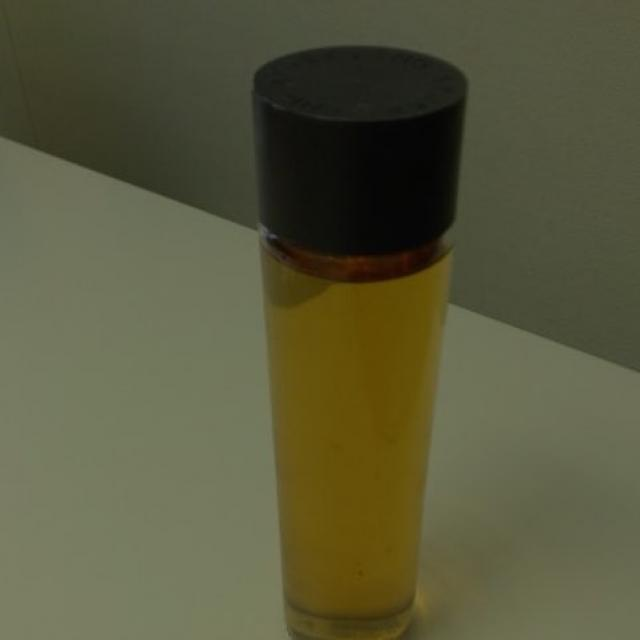tea: (261, 235, 467, 619), (258, 238, 457, 622), (258, 240, 458, 620), (256, 246, 456, 620)
